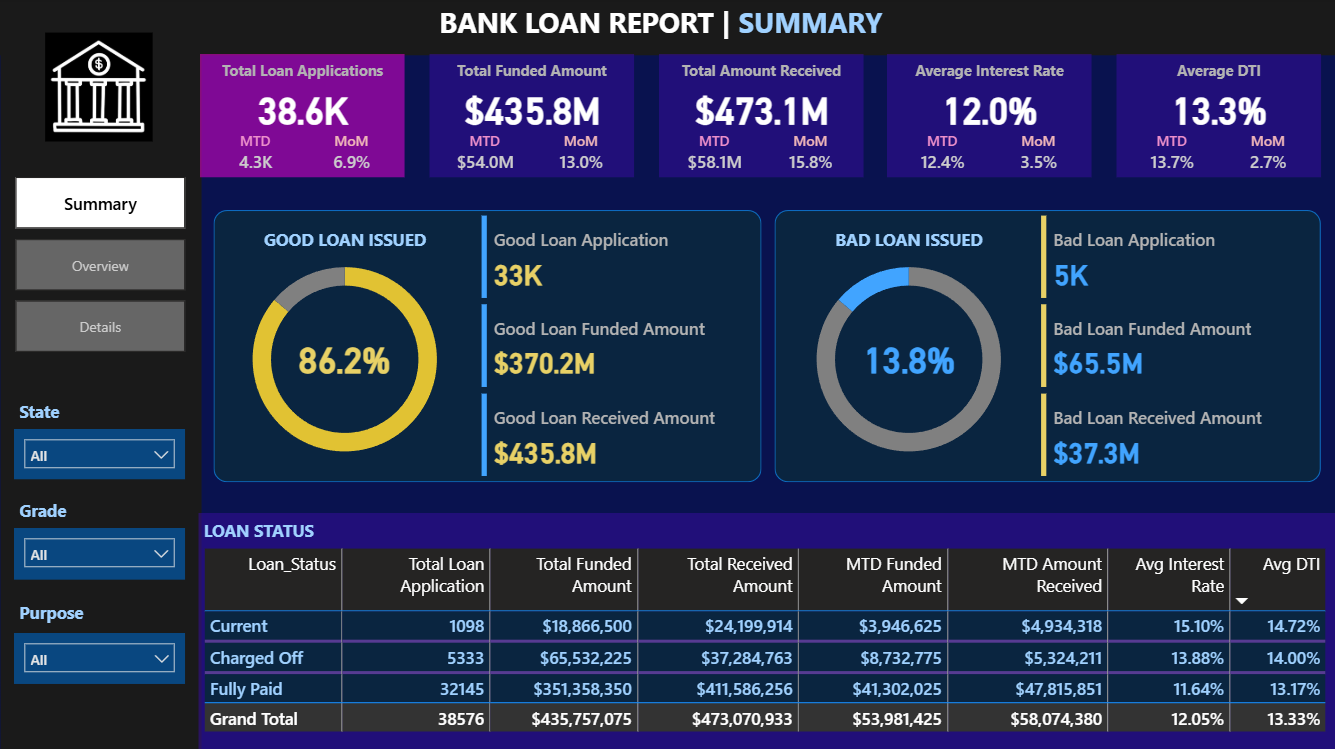

This screenshot's page, from the dashboard's own definition file:
{"tool":"powerbi","page":{"name":"Summary","canvas":[1280,720],"ordinal":0},"visuals":[{"type":"shape","box":[192.5,54.1,195.6,117.7],"z":0,"group":"g3"},{"type":"shape","box":[411.2,54.1,195.6,117.7],"z":0,"group":"g1"},{"type":"shape","box":[629.9,54.1,195.6,117.7],"z":0,"group":"g7"},{"type":"shape","box":[848.6,54.1,195.6,117.7],"z":0,"group":"g6"},{"type":"shape","box":[1067.3,54.1,195.6,117.7],"z":0,"group":"g5"},{"type":"shape","box":[205,203.3,523.3,260],"z":0},{"type":"card","fields":{"Values":["bank_loan bank_loan_data.Total Loan Application"]},"box":[192.5,82.7,195.6,44.5],"z":1000,"group":"g3"},{"type":"card","fields":{"Values":["bank_loan_data.Total Funded Amount"]},"box":[411.2,82.7,195.6,44.5],"z":1000,"group":"g1"},{"type":"card","fields":{"Values":["bank_loan_data.Total Amount Received"]},"box":[629.9,82.7,195.6,44.5],"z":1000,"group":"g7"},{"type":"card","fields":{"Values":["bank_loan_data.Average Interest Rate"]},"box":[848.6,82.7,195.6,44.5],"z":1000,"group":"g6"},{"type":"card","fields":{"Values":["bank_loan_data.Average DTI"]},"box":[1067.3,82.7,195.6,44.5],"z":1000,"group":"g5"},{"type":"donutChart","fields":{"Category":["bank_loan_data.GoodLoan vs Bad Loan"],"Y":["bank_loan_data.Total Loan Application"]},"box":[205,230,250,230],"z":1000},{"type":"shape","box":[191.2,492.1,1086.7,226.7],"z":1000,"group":"g2"},{"type":"tableEx","fields":{"Values":["bank_loan_data.loan_status","bank_loan_data.Total Loan Application","bank_loan_data.Total Funded Amount","bank_loan_data.Total Amount Received","bank_loan_data.MTD Funded Amount","bank_loan_data.MTD Amount Received","bank_loan_data.Average Interest Rate","bank_loan_data.Average DTI"]},"box":[190.7,521.1,1089.6,198.8],"z":1500,"group":"g2"},{"type":"shape","box":[0,0,1280.4,55.7],"z":2000},{"type":"textbox","box":[192.5,54.1,195.6,35],"z":2000,"group":"g3"},{"type":"textbox","box":[411.2,54.1,195.6,35],"z":2000,"group":"g1"},{"type":"textbox","box":[629.9,54.1,195.6,35],"z":2000,"group":"g7"},{"type":"textbox","box":[848.6,54.1,195.6,35],"z":2000,"group":"g6"},{"type":"textbox","box":[1067.3,54.1,195.6,35],"z":2000,"group":"g5"},{"type":"shape","box":[1,55,192,665],"z":3000},{"type":"card","title":"MTD","fields":{"Values":["bank_loan_data.MTD Loan Application"]},"box":[211.6,127.3,68.4,44.5],"z":3000,"group":"g3"},{"type":"card","title":"MTD","fields":{"Values":["bank_loan_data.MTD Funded Amount"]},"box":[430.3,127.3,68.4,44.5],"z":3000,"group":"g1"},{"type":"card","title":"MTD","fields":{"Values":["bank_loan_data.MTD Amount Received"]},"box":[649,127.3,68.4,44.5],"z":3000,"group":"g7"},{"type":"card","title":"MTD","fields":{"Values":["bank_loan_data.MTD Average Interest Rate"]},"box":[867.7,127.3,68.4,44.5],"z":3000,"group":"g6"},{"type":"card","title":"MTD","fields":{"Values":["bank_loan_data.MTD Average DTI"]},"box":[1086.4,127.3,68.4,44.5],"z":3000,"group":"g5"},{"type":"card","title":"MoM","fields":{"Values":["bank_loan_data.MoM Loan Application"]},"box":[302.3,127.3,68.4,44.5],"z":4000,"group":"g3"},{"type":"card","title":"MoM","fields":{"Values":["bank_loan_data.MoM Funded Amount"]},"box":[521,127.3,68.4,44.5],"z":4000,"group":"g1"},{"type":"card","title":"MoM","fields":{"Values":["bank_loan_data.MoM Amount Received"]},"box":[739.7,127.3,68.4,44.5],"z":4000,"group":"g7"},{"type":"card","title":"MoM","fields":{"Values":["bank_loan_data.MoM Average Interest Rate"]},"box":[958.4,127.3,68.4,44.5],"z":4000,"group":"g6"},{"type":"card","title":"MoM","fields":{"Values":["bank_loan_data.MoM Average DTI"]},"box":[1177.1,127.3,68.4,44.5],"z":4000,"group":"g5"},{"type":"textbox","box":[231.7,215,196.7,35],"z":4000},{"type":"group","id":"g1","title":"Group 2","box":[411.2,54.1,195.6,117.7],"z":4001,"group":"g4"},{"type":"group","id":"g2","title":"Group 2","box":[190.7,492.1,1089.3,227.9],"z":5000},{"type":"card","fields":{"Values":["bank_loan_data.Good Loan Percentage"]},"box":[273.3,318.3,111.7,51.7],"z":6000},{"type":"textbox","box":[415.1,0,447,54.1],"z":7000},{"type":"group","id":"g3","title":"Group 1","box":[192.5,54.1,195.6,117.7],"z":8000},{"type":"group","id":"g4","title":"Group 1","box":[411.2,54.1,195.6,117.7],"z":9000},{"type":"group","id":"g5","title":"Group 2","box":[1067.3,54.1,195.6,117.7],"z":10000},{"type":"group","id":"g6","title":"Group 2","box":[848.6,54.1,195.6,117.7],"z":11000},{"type":"group","id":"g7","title":"Group 2","box":[629.9,54.1,195.6,117.7],"z":12000},{"type":"shape","box":[740,203.3,521.7,260],"z":13000},{"type":"cardVisual","fields":{"Data":["bank_loan_data.Good Loan Application","bank_loan_data.Good Loan Funded Amount","bank_loan_data.Good Loan Amount Received"]},"box":[455,203.3,273.3,260],"z":14000},{"type":"donutChart","fields":{"Category":["bank_loan_data.GoodLoan vs Bad Loan"],"Y":["bank_loan_data.Total Loan Application"]},"box":[743.3,230,250,230],"z":15000},{"type":"textbox","box":[770,215,196.7,35],"z":16000},{"type":"card","fields":{"Values":["bank_loan_data.Bad Loan Percentage"]},"box":[811.7,318.3,113.3,51.7],"z":17000},{"type":"cardVisual","fields":{"Data":["bank_loan_data.Bad Loan Application","bank_loan_data.Bad Loan Funded Amount","bank_loan_data.Bad Loan Received Amount"]},"box":[990,203.3,271.7,260],"z":18000},{"type":"slicer","fields":{"Values":["bank_loan_data.address_state"]},"box":[15,412,163,48],"z":19000},{"type":"textbox","box":[15,379,67,33],"z":20000},{"type":"slicer","fields":{"Values":["bank_loan_data.grade"]},"box":[15,507,163,49],"z":21000},{"type":"textbox","box":[15,474,65,33],"z":22000},{"type":"slicer","fields":{"Values":["bank_loan_data.purpose"]},"box":[15,606.7,163.3,48.3],"z":23000},{"type":"textbox","box":[15,571,82,36],"z":24000},{"type":"textbox","box":[190.7,492.1,154.3,35],"z":25000},{"type":"pageNavigator","box":[15.9,171.8,162.2,167],"z":26000},{"type":"image","box":[30.2,28.6,130.4,114.5],"z":26001}]}

Visuals, with their boxes in screenshot pixels (x1, y1, x2, y2), scaled from the page's 1280x720 canvas onto the 1335x749 screenshot:
shape: region(201, 56, 405, 179)
shape: region(429, 56, 633, 179)
shape: region(657, 56, 861, 179)
shape: region(885, 56, 1089, 179)
shape: region(1113, 56, 1317, 179)
shape: region(214, 211, 760, 482)
card - bank_loan bank_loan_data.Total Loan Application: region(201, 86, 405, 132)
card - bank_loan_data.Total Funded Amount: region(429, 86, 633, 132)
card - bank_loan_data.Total Amount Received: region(657, 86, 861, 132)
card - bank_loan_data.Average Interest Rate: region(885, 86, 1089, 132)
card - bank_loan_data.Average DTI: region(1113, 86, 1317, 132)
donutChart - bank_loan_data.GoodLoan vs Bad Loan x bank_loan_data.Total Loan Application: region(214, 239, 475, 479)
shape: region(199, 512, 1333, 748)
tableEx - bank_loan_data.loan_status x bank_loan_data.Total Loan Application: region(199, 542, 1334, 748)
shape: region(0, 0, 1334, 58)
textbox: region(201, 56, 405, 93)
textbox: region(429, 56, 633, 93)
textbox: region(657, 56, 861, 93)
textbox: region(885, 56, 1089, 93)
textbox: region(1113, 56, 1317, 93)
shape: region(1, 57, 201, 748)
"MTD" card: region(221, 132, 292, 179)
"MTD" card: region(449, 132, 520, 179)
"MTD" card: region(677, 132, 748, 179)
"MTD" card: region(905, 132, 976, 179)
"MTD" card: region(1133, 132, 1204, 179)
"MoM" card: region(315, 132, 387, 179)
"MoM" card: region(543, 132, 615, 179)
"MoM" card: region(771, 132, 843, 179)
"MoM" card: region(1000, 132, 1071, 179)
"MoM" card: region(1228, 132, 1299, 179)
textbox: region(242, 224, 447, 260)
"Group 2" group: region(429, 56, 633, 179)
"Group 2" group: region(199, 512, 1334, 748)
card - bank_loan_data.Good Loan Percentage: region(285, 331, 402, 385)
textbox: region(433, 0, 899, 56)
"Group 1" group: region(201, 56, 405, 179)
"Group 1" group: region(429, 56, 633, 179)
"Group 2" group: region(1113, 56, 1317, 179)
"Group 2" group: region(885, 56, 1089, 179)
"Group 2" group: region(657, 56, 861, 179)
shape: region(772, 211, 1316, 482)
cardVisual - bank_loan_data.Good Loan Application x bank_loan_data.Good Loan Funded Amount: region(475, 211, 760, 482)
donutChart - bank_loan_data.GoodLoan vs Bad Loan x bank_loan_data.Total Loan Application: region(775, 239, 1036, 479)
textbox: region(803, 224, 1008, 260)
card - bank_loan_data.Bad Loan Percentage: region(847, 331, 965, 385)
cardVisual - bank_loan_data.Bad Loan Application x bank_loan_data.Bad Loan Funded Amount: region(1033, 211, 1316, 482)
slicer - bank_loan_data.address_state: region(16, 429, 186, 479)
textbox: region(16, 394, 86, 429)
slicer - bank_loan_data.grade: region(16, 527, 186, 578)
textbox: region(16, 493, 83, 527)
slicer - bank_loan_data.purpose: region(16, 631, 186, 681)
textbox: region(16, 594, 101, 631)
textbox: region(199, 512, 360, 548)
pageNavigator: region(17, 179, 186, 352)
image: region(31, 30, 168, 149)
